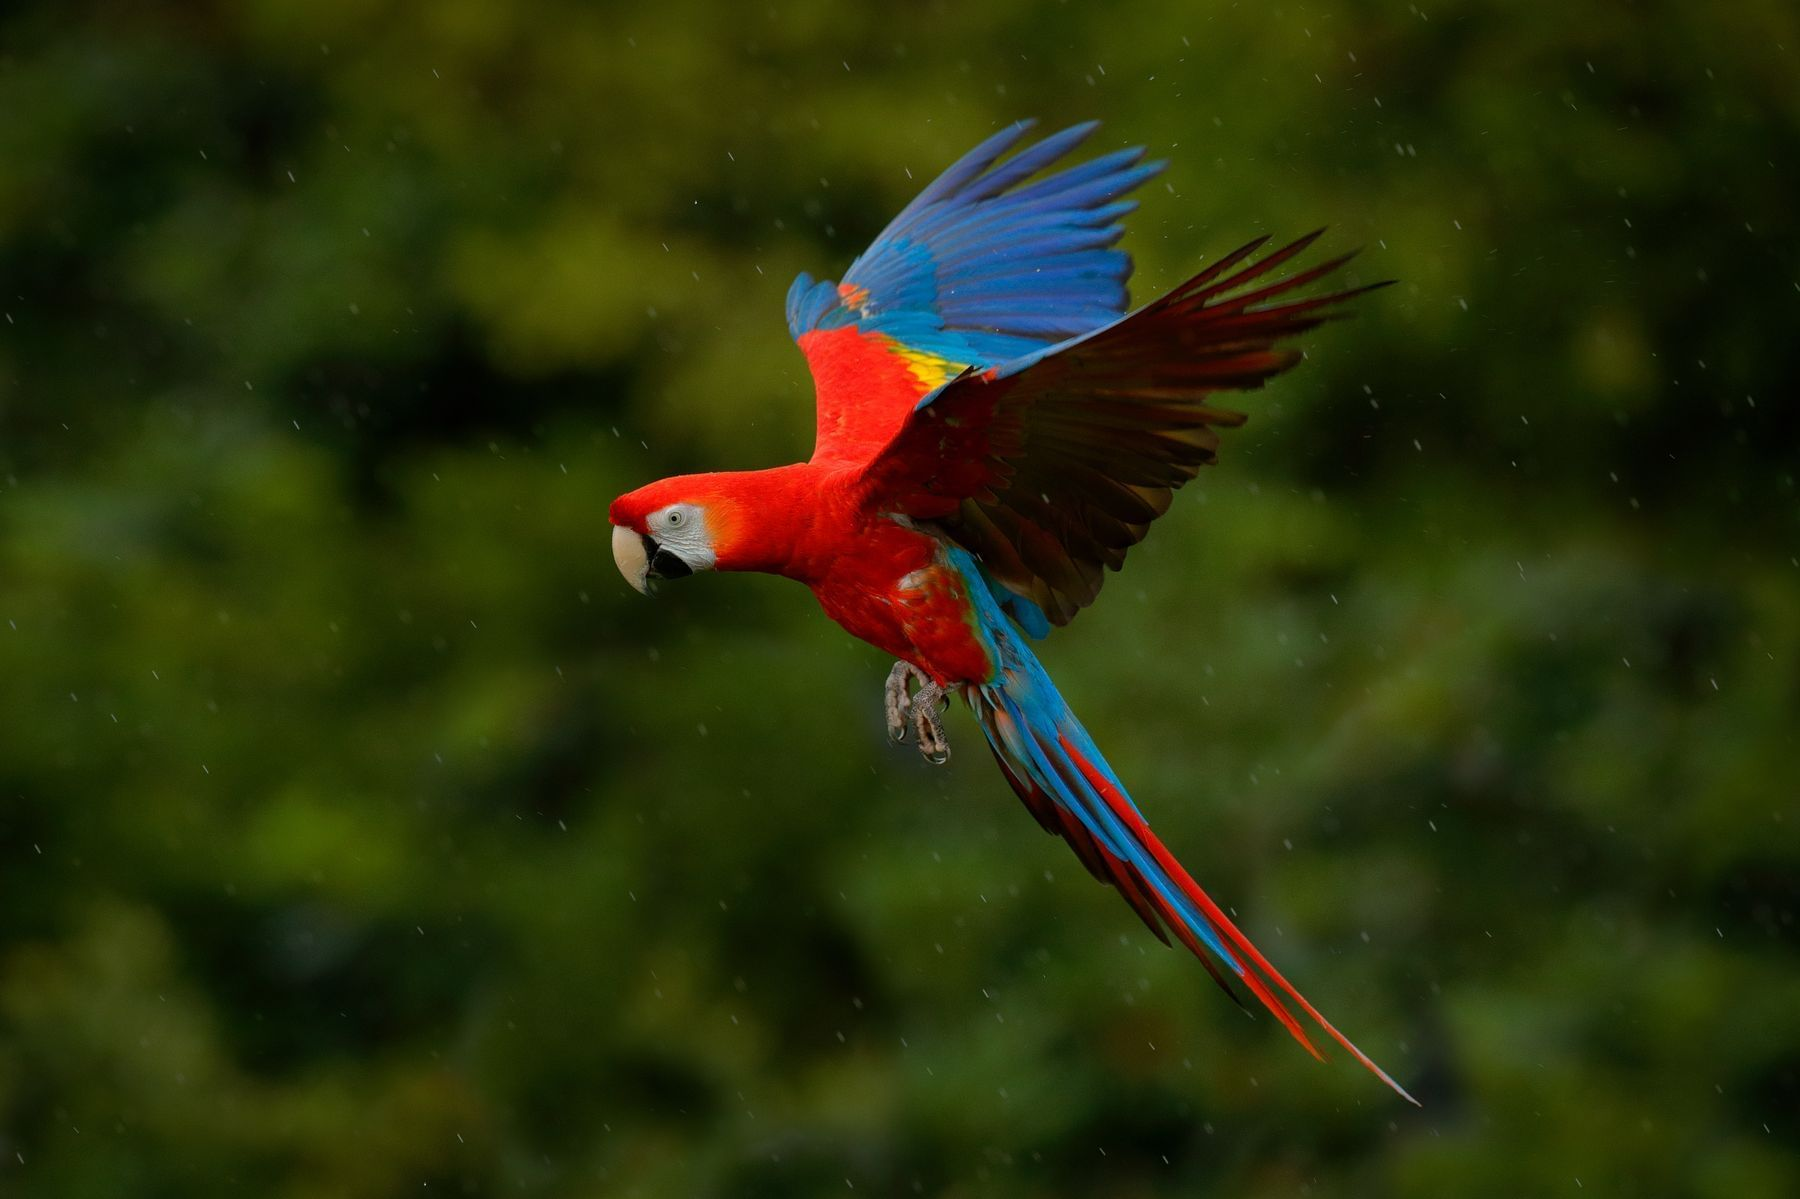Lapa: (567, 107, 1481, 1081)
